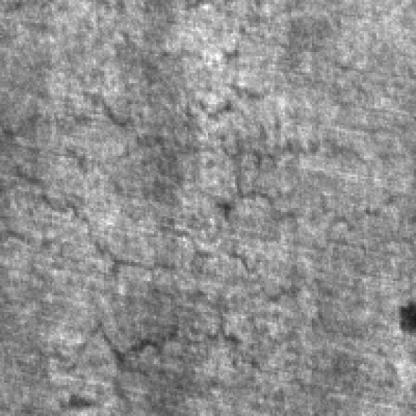crazing: (6, 185, 304, 320), (37, 289, 287, 397), (54, 102, 372, 175)
